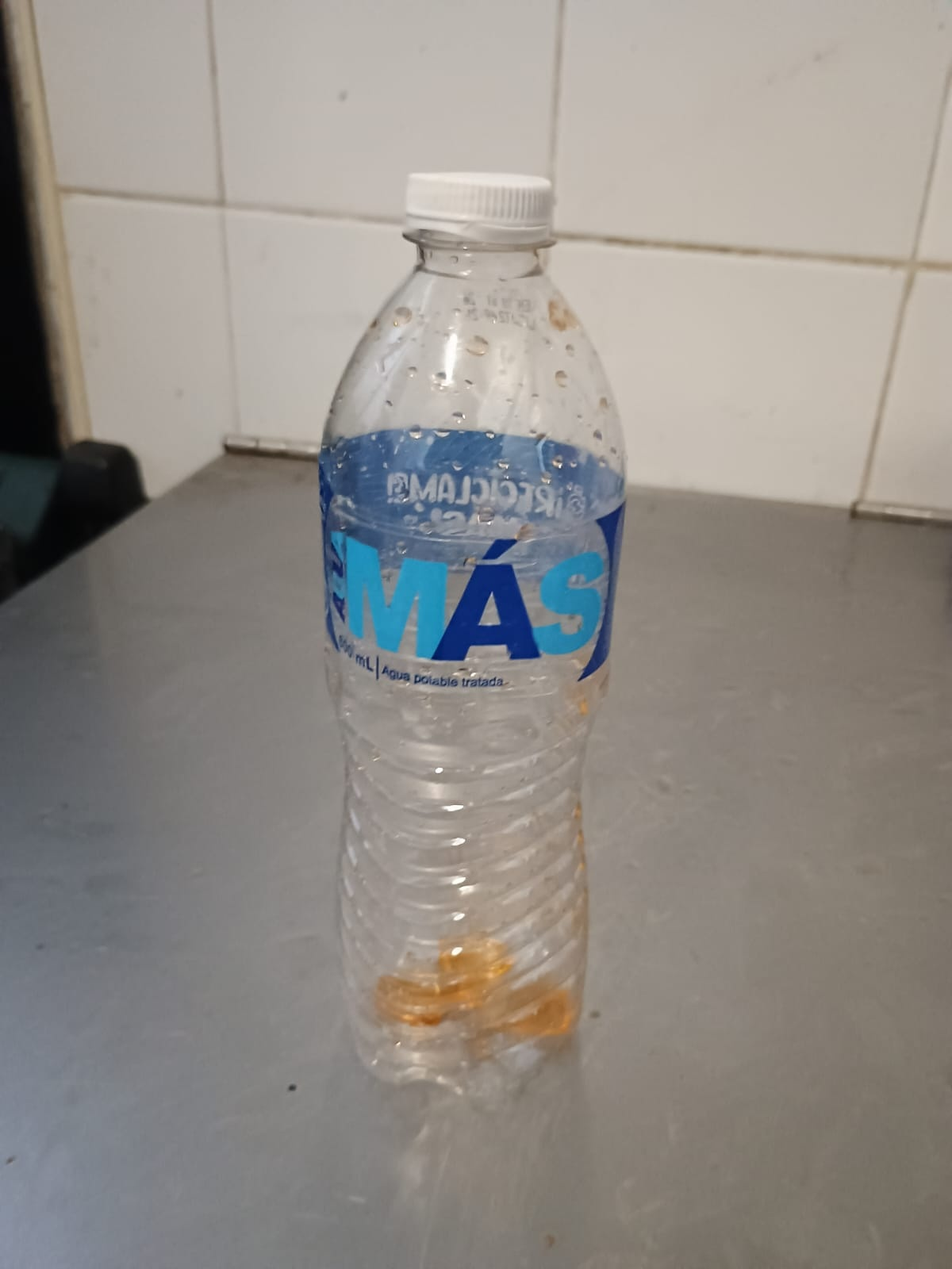Plastico: (317, 173, 627, 1111)
